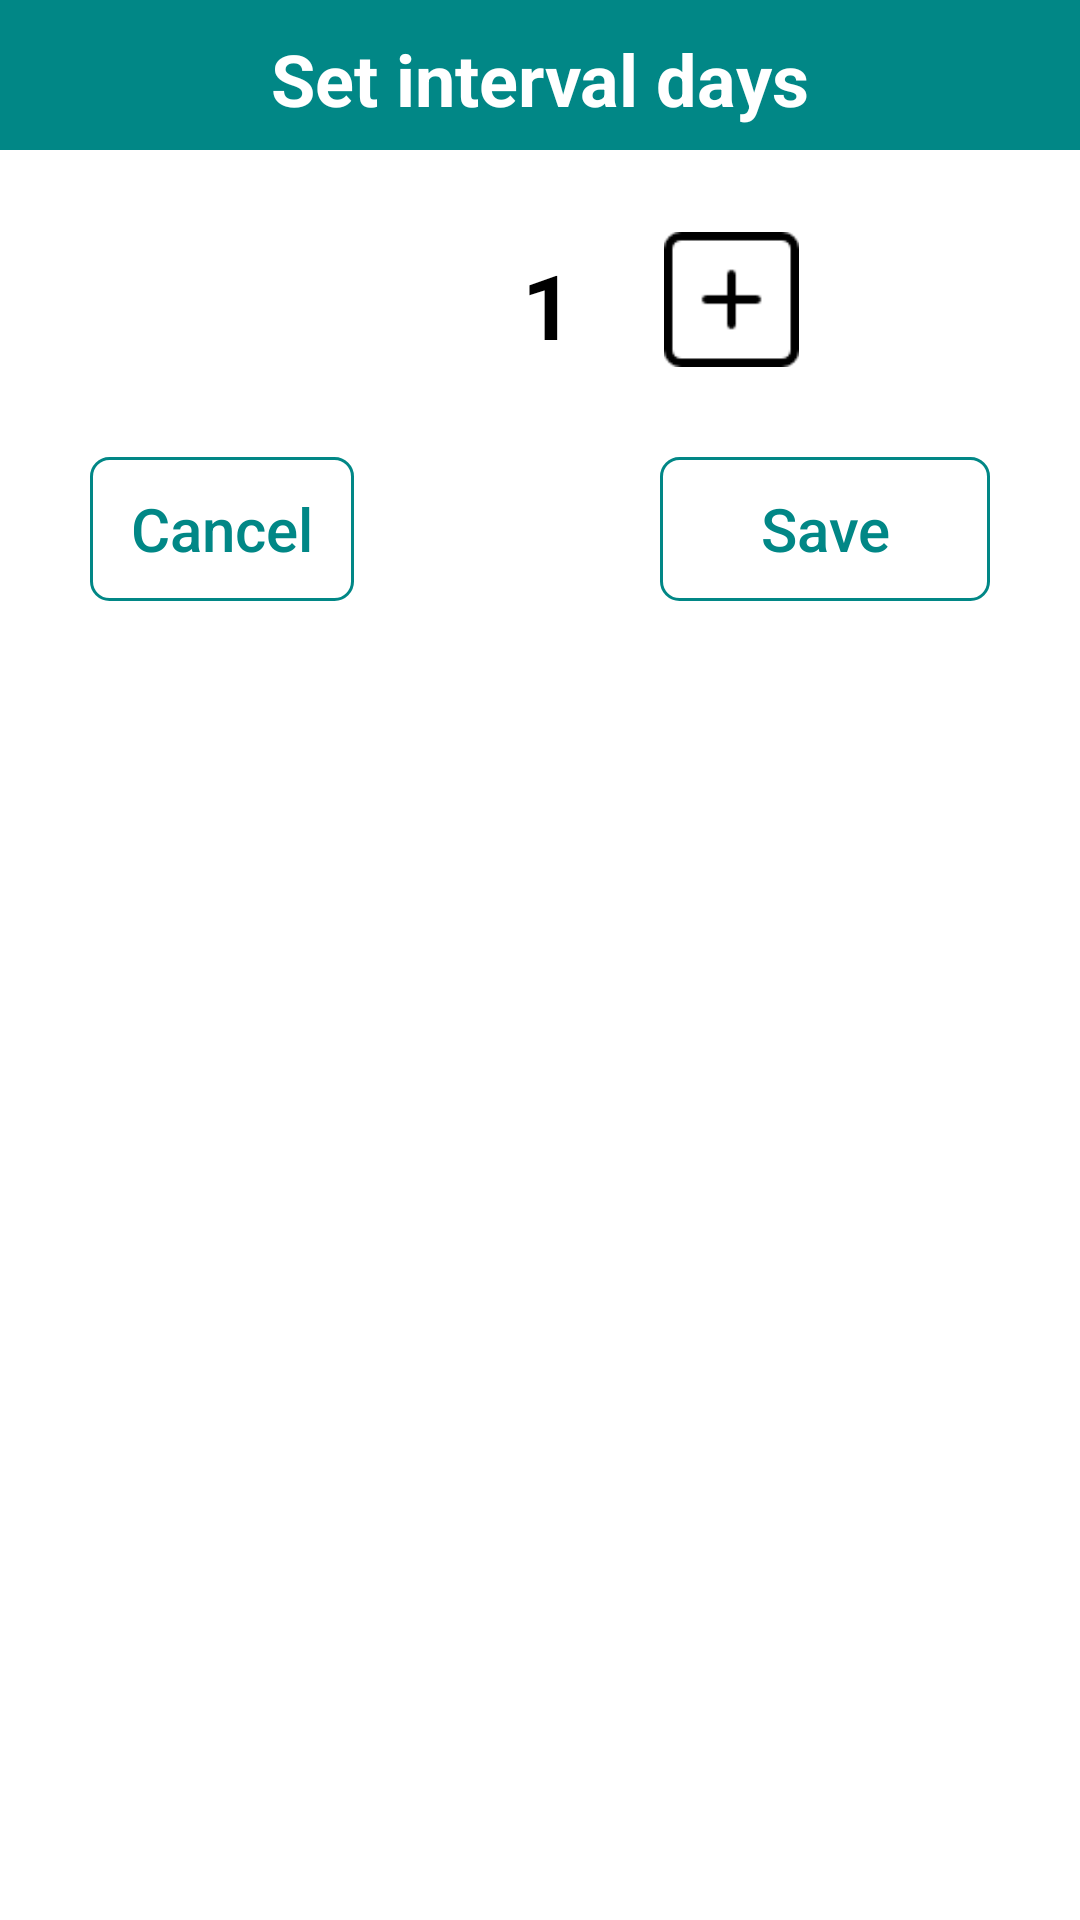

Point at icon controls on the screen. Image size 1080*1920, points as [x,y].
addbutton: [731,299]
